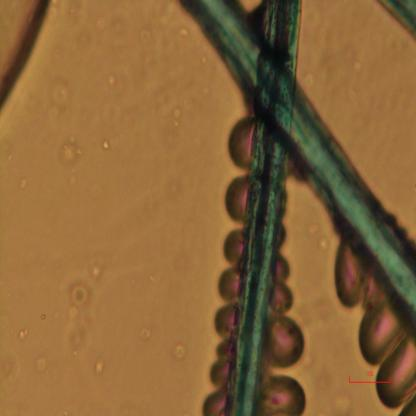Air bubble: (0, 0, 54, 108), (374, 332, 416, 410), (357, 298, 401, 365), (255, 370, 307, 414), (332, 243, 364, 309), (267, 312, 305, 366), (226, 114, 256, 172), (224, 173, 247, 224), (209, 339, 230, 387), (216, 265, 242, 303), (222, 228, 245, 267), (270, 282, 295, 312), (201, 390, 230, 415), (396, 389, 416, 414), (275, 254, 290, 282)
Background material: (42, 74, 75, 112), (67, 322, 94, 360), (300, 217, 330, 251), (339, 40, 366, 76), (58, 132, 85, 168), (66, 283, 89, 322), (330, 385, 355, 415), (171, 100, 186, 130), (32, 352, 48, 377), (172, 343, 188, 361), (89, 263, 104, 280), (92, 361, 106, 377), (141, 28, 153, 45), (16, 175, 30, 189), (175, 25, 189, 39), (138, 325, 151, 340), (199, 48, 209, 67), (17, 328, 29, 342), (106, 76, 117, 90), (202, 85, 211, 98), (103, 138, 110, 152), (38, 311, 46, 320)
Microfibre: (179, 1, 416, 332), (225, 0, 303, 414), (376, 0, 416, 41)
